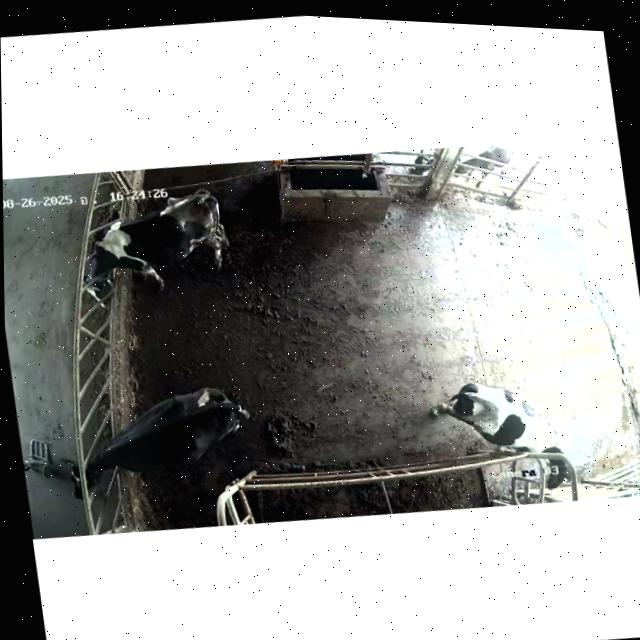eat: (42, 418, 149, 518), (43, 217, 144, 319)
stand: (415, 341, 582, 503)
